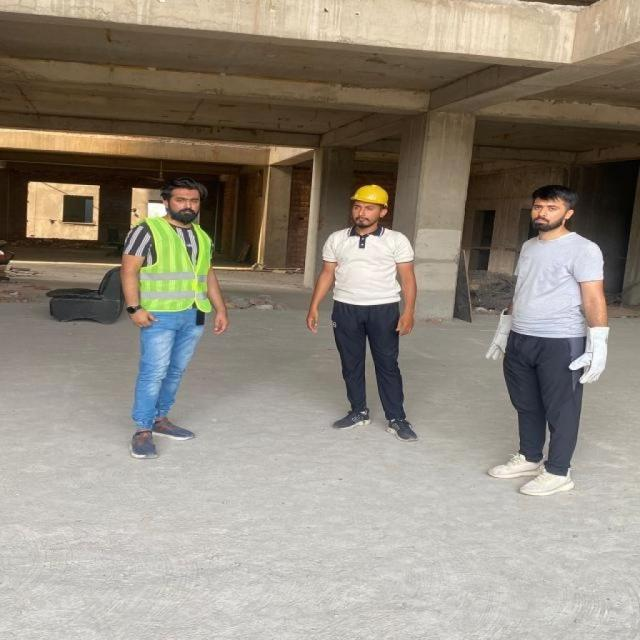Gloves-Detection: (573, 324, 611, 387), (485, 305, 510, 365)
